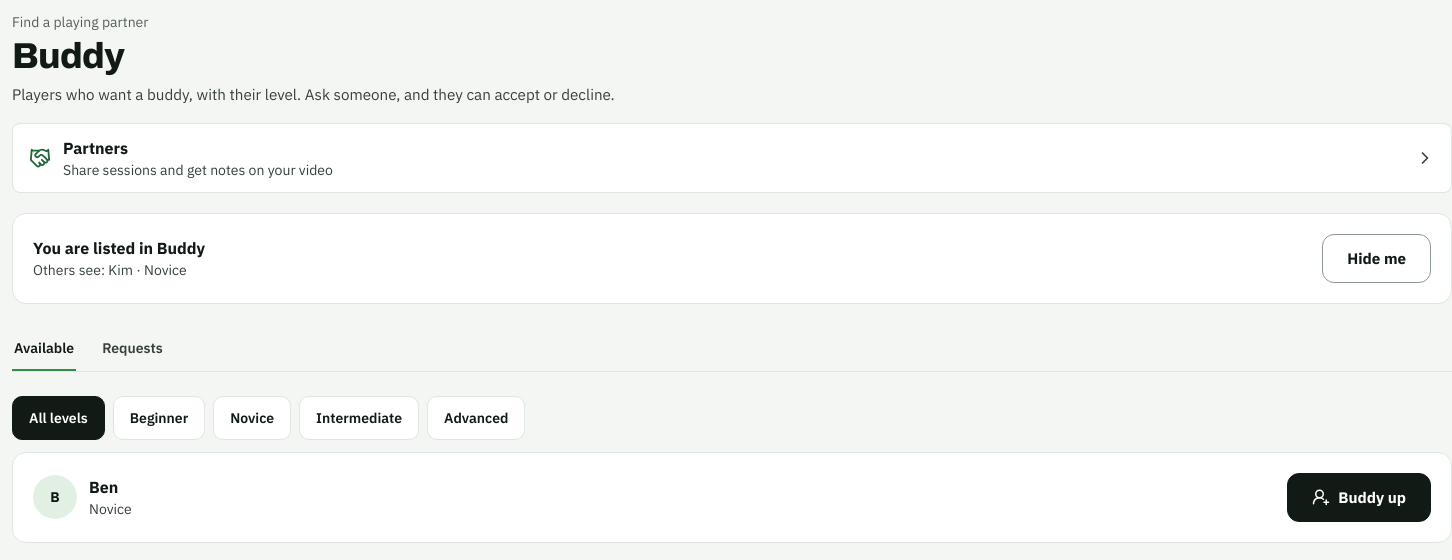
Buddy › switches between Available and Requests
Expected: the tab "Available" is shown, [12,328,76,372]
Expected: the list named "Available players" is shown, [12,452,1451,543]
Click the tab "Requests". click: (132, 350)
box: [100,328,165,372]
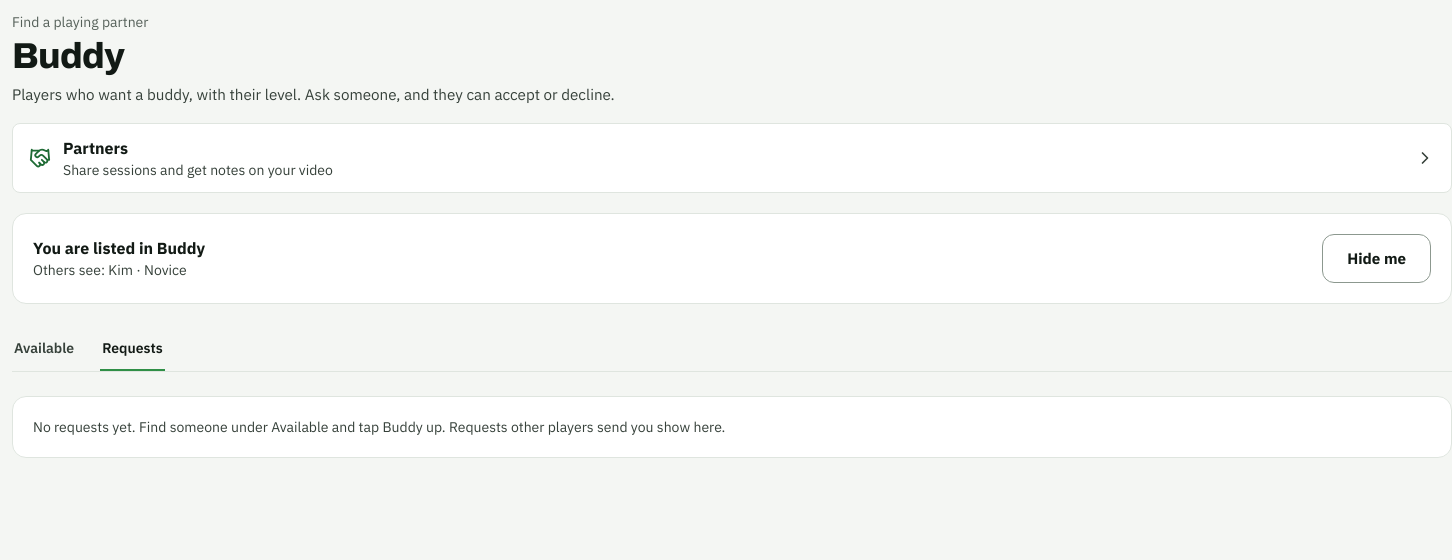
Now the text "No requests yet" is shown, box [33,418,725,436]
